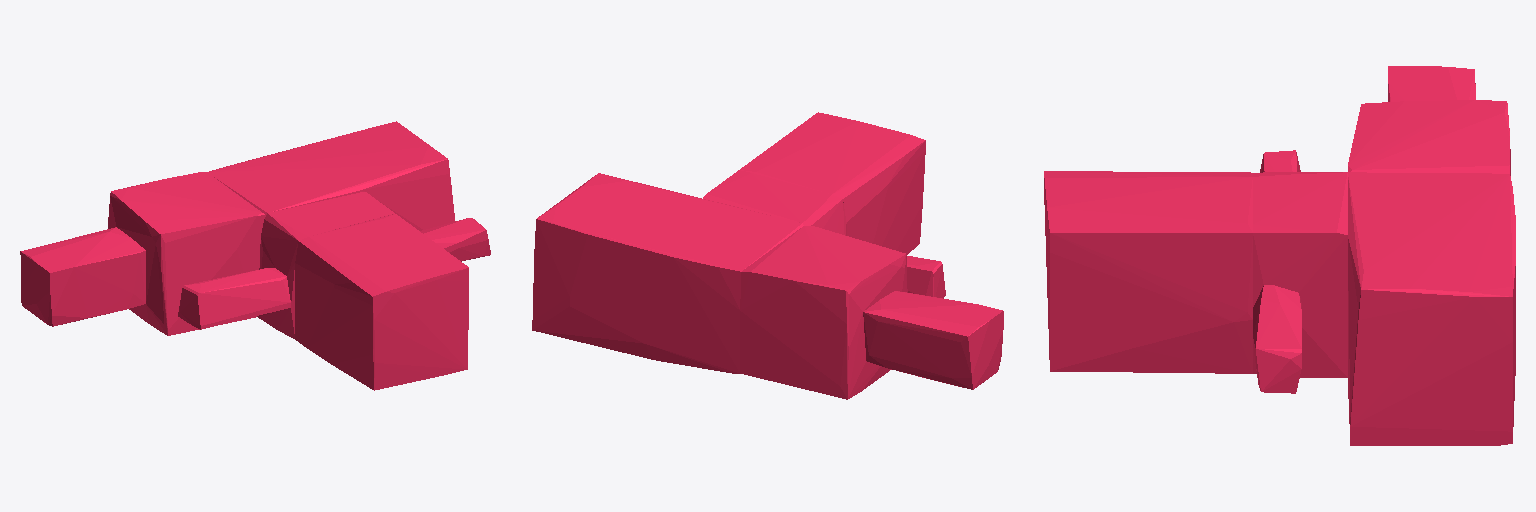
robot.urdf — blob118:
<robot name="blob118">
  <link name="random_obj_118">
    <contact>
      <lateral_friction value="1.0"/>
      <rolling_friction value="0.0"/>
      <inertia_scaling value="3.0"/>
      <contact_cfm value="0.0"/>
      <contact_erp value="1.0"/>
    </contact>
    <inertial>
      <origin rpy="0 0 0" xyz="0 0 0"/>
      <mass value="0.1"/>
      <inertia ixx="1" ixy="0" ixz="0" iyy="1" iyz="0" izz="0"/>
    </inertial>
    <visual>
      <origin rpy="0 0 0" xyz="0 0 0"/>
      <geometry>
        <mesh filename="118.obj" scale="0.015 0.015 0.015"/>
      </geometry>
      <material name="blockmat">
        <color rgba="1.00 0.24 0.44 1"/>
      </material>
    </visual>
    <collision>
      <origin rpy="0 0 0" xyz="0 0 0"/>
      <geometry>
        <mesh filename="118.obj" scale="0.015 0.015 0.015"/>
      </geometry>
    </collision>
  </link>
</robot>

--- What the picture shows (computed from the rendered views, not written in the file) ---
Views: 3 orthographic renders of the robot side by side, from view 1: azimuth 30°, elevation 25°; view 2: azimuth 150°, elevation 25°; view 3: azimuth 270°, elevation 25°.
Model blob118 with 1 links and 0 joints (none), rooted at random_obj_118, posed all joints at 0.
Links seen in each view (by area): view 1: random_obj_118; view 2: random_obj_118; view 3: random_obj_118.
Link boxes in pixels (x1,y1,x2,y2): random_obj_118: (20, 121, 490, 390); random_obj_118: (532, 112, 1003, 399); random_obj_118: (1044, 66, 1515, 445).
Size in the robot's own frame: 0.1233 by 0.0925 by 0.033 metres.
1 mesh visuals loaded from 1 distinct referenced files (1 OBJ).